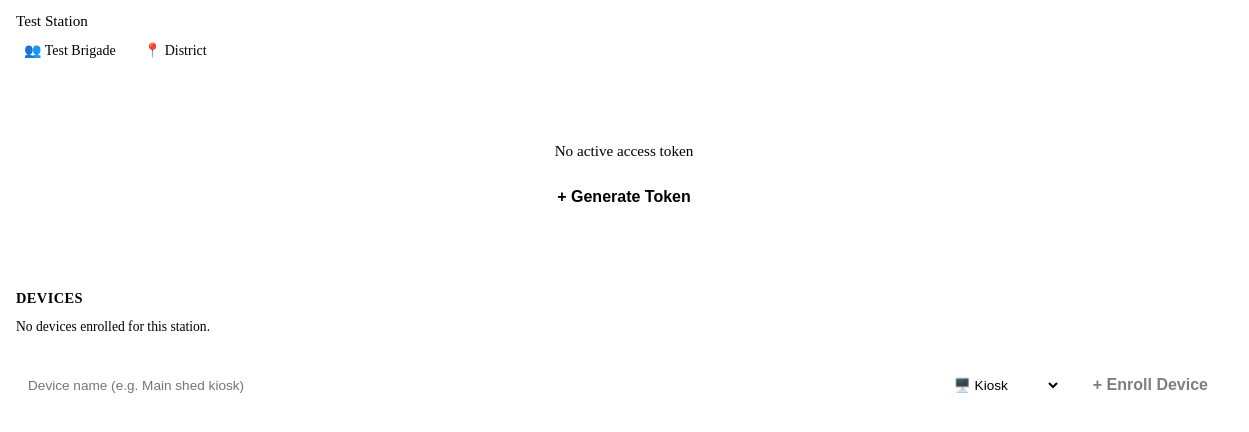
Test case: StationTokenCard — Devices section › disables Enroll Device until a name is entered
The width and height of the screenshot is (1249, 432).
Expected: the button "+ Enroll Device" is disabled, [1069,355,1232,415]
In the field with placeholder "Device name (e.g. Main shed kiosk)": (473, 385) [16,355,930,415], type "X"
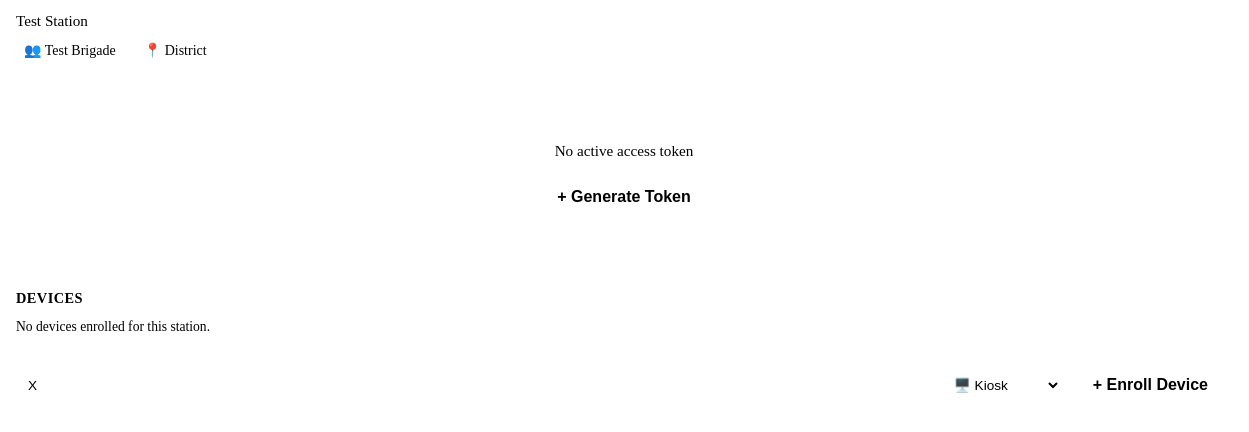
Expected: the button "+ Enroll Device" is enabled, [1069,355,1232,415]
